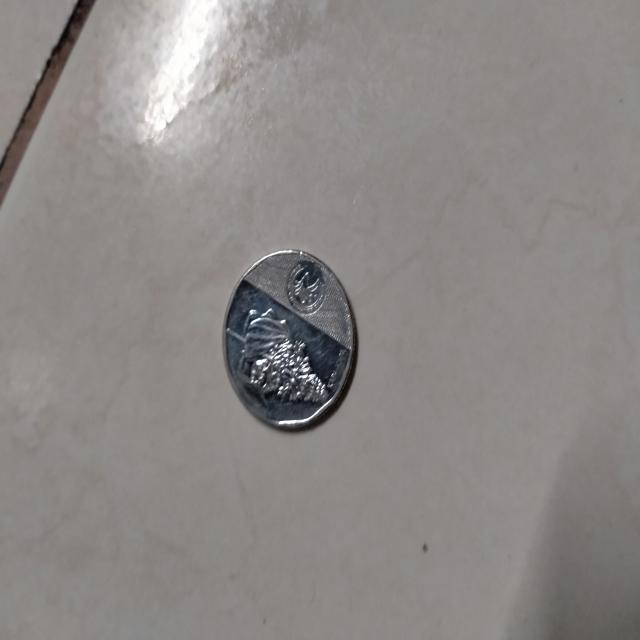10_New_Back: (230, 259, 337, 410)
